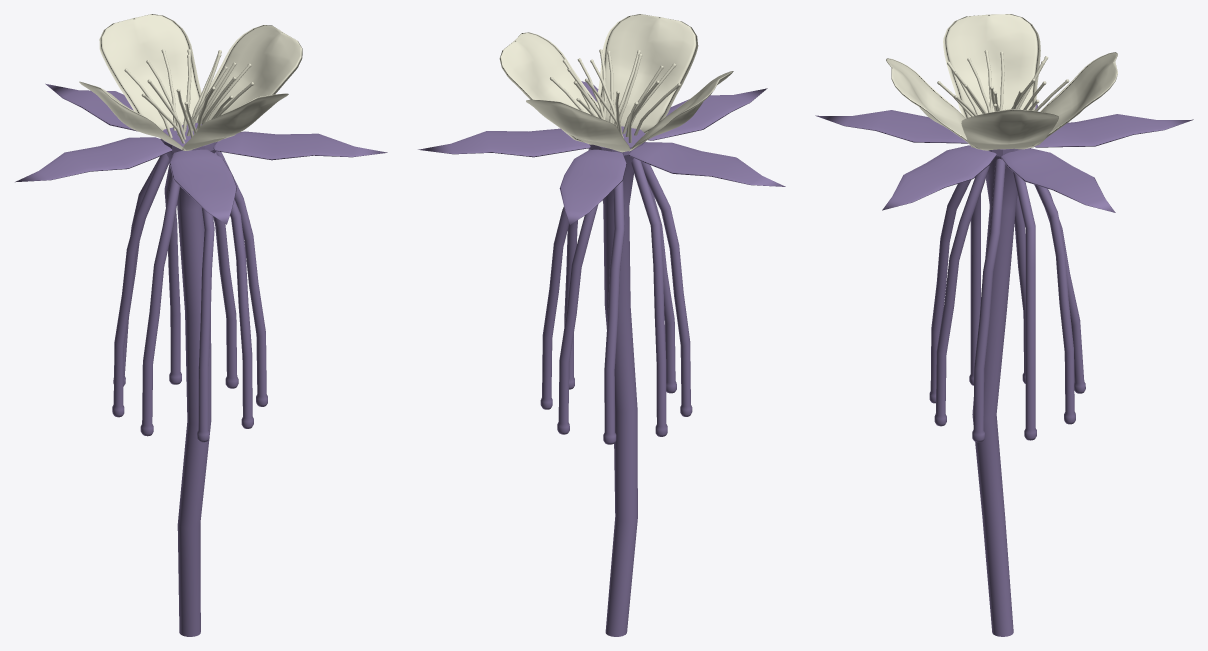
The model's file is Columbine_Low_AllTogether.fbx.
3 views of the same model, side by side, from view 1: azimuth 30°, elevation 25°; view 2: azimuth 150°, elevation 25°; view 3: azimuth 270°, elevation 25° (orthographic).
Parts seen in each view (by area): view 1: Columbine2; view 2: Columbine2; view 3: Columbine2.
Part boxes in pixels (box(x1,y1,x2,y2)): Columbine2: box(15, 14, 387, 636); Columbine2: box(418, 14, 785, 636); Columbine2: box(815, 14, 1193, 636).
Bounding box in the file's own units: 4.3 × 7.46 × 4.49.
